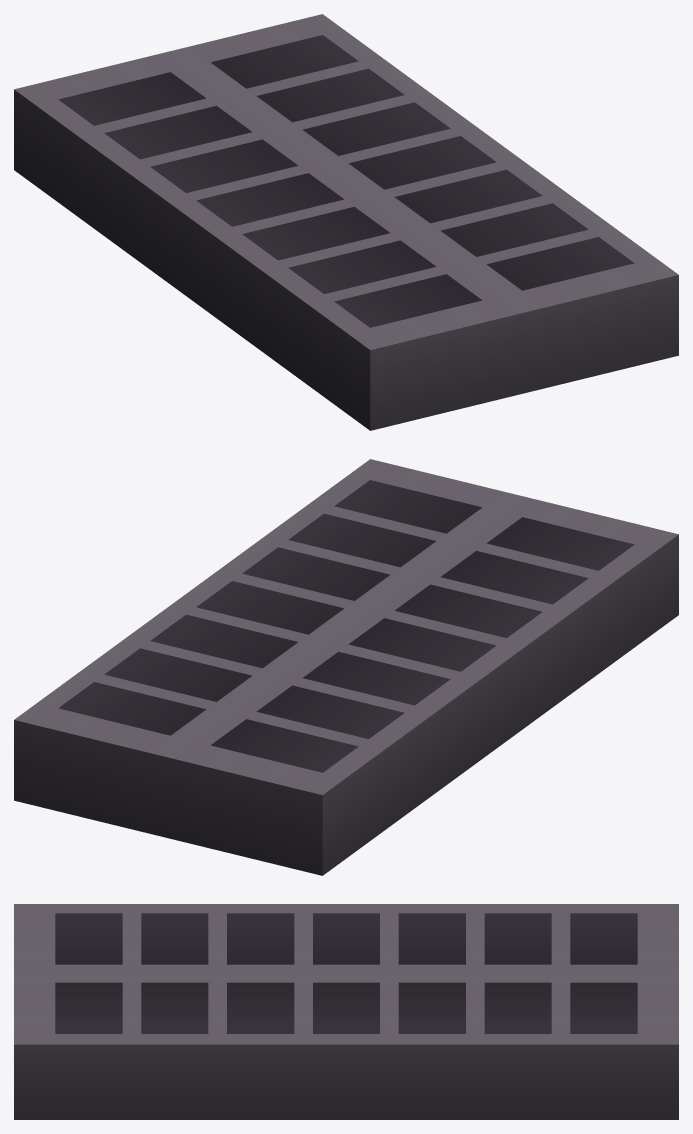
The model's file is Manhole_2A.fbx.
The picture shows the model from 3 angles, top to bottom: view 1: azimuth 30°, elevation 25°; view 2: azimuth 150°, elevation 25°; view 3: azimuth 270°, elevation 25°; orthographic projection. The views are drawn at different scales.
Parts seen in each view (by area): view 1: Manhole_2A; view 2: Manhole_2A; view 3: Manhole_2A.
Part boxes in pixels (bbox=[...]): Manhole_2A: bbox=[14, 14, 678, 430]; Manhole_2A: bbox=[14, 459, 678, 875]; Manhole_2A: bbox=[14, 904, 678, 1119].
Size of the model in its own units: 0.8 by 0.2018 by 1.6.
